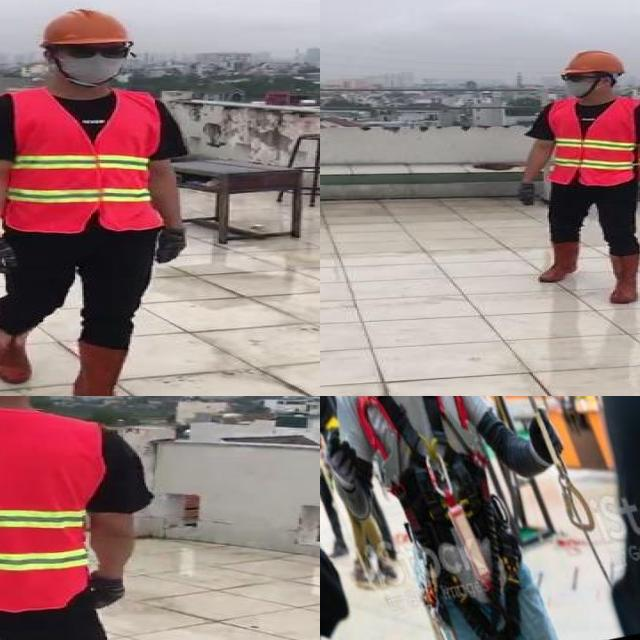Harness: (356, 396, 505, 556)
boots: (71, 339, 144, 396), (0, 323, 34, 385), (606, 251, 640, 305), (540, 241, 579, 281)
face_mask: (56, 40, 138, 81), (559, 72, 601, 98)
glasses: (56, 40, 138, 63), (557, 71, 589, 84)
hand_glove: (152, 228, 190, 263), (512, 181, 540, 211), (0, 237, 21, 273)
head_helmet: (39, 4, 128, 47), (560, 48, 630, 76)
person: (0, 1, 195, 396), (0, 396, 181, 640), (506, 49, 640, 310)
vest: (0, 90, 162, 232), (0, 411, 98, 613), (544, 98, 640, 185)
